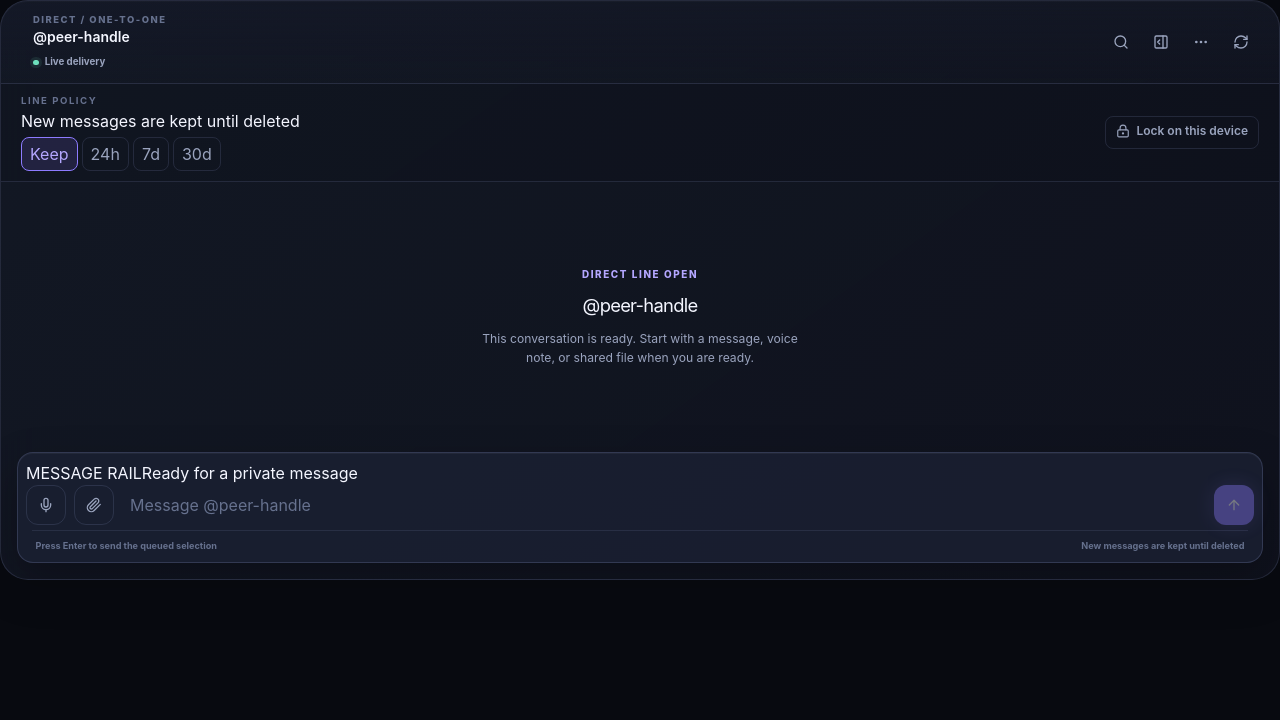
it: ConversationPanel composer controls › sends a plain-text draft when Enter is pressed and retains the visible Send control
Expected: the button named "Send message and attachments" is disabled, left=1214, top=485, right=1254, bottom=525
Type "Send with Enter" into the field named "Message peer-handle" at [664, 505], box left=122, top=485, right=1206, bottom=525
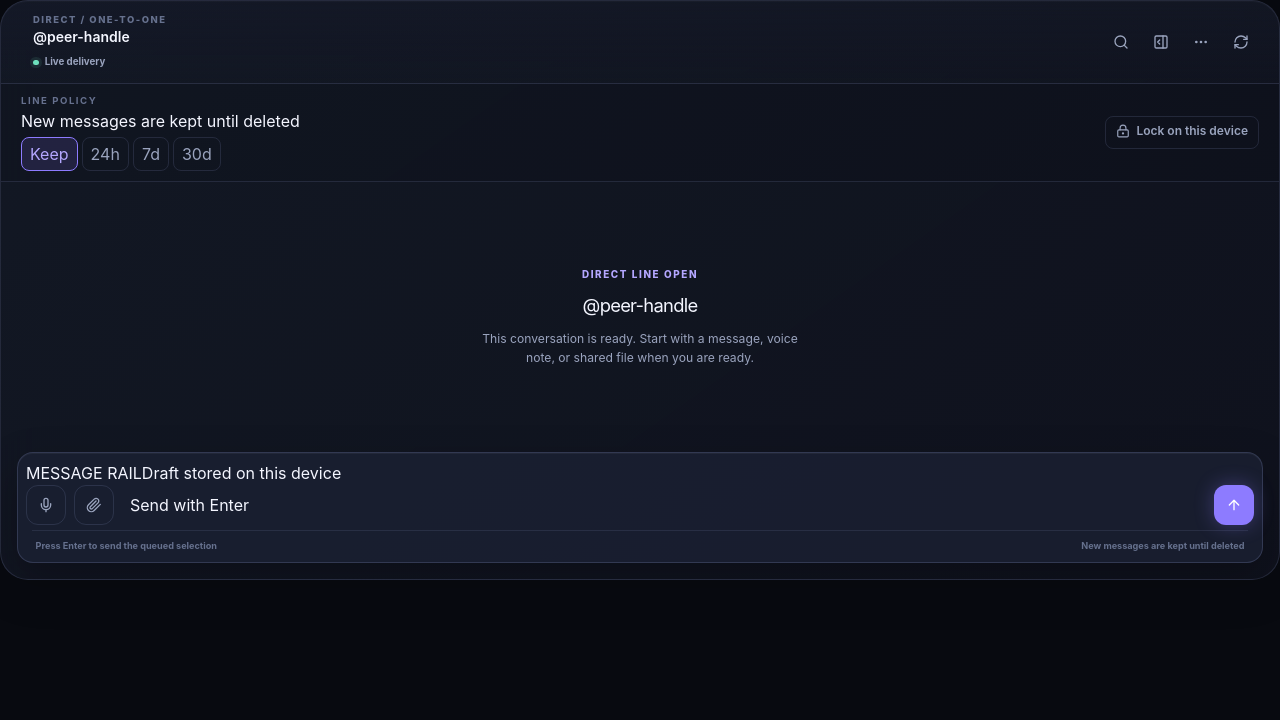
Submit the form named "Message peer-handle", box left=17, top=452, right=1263, bottom=563
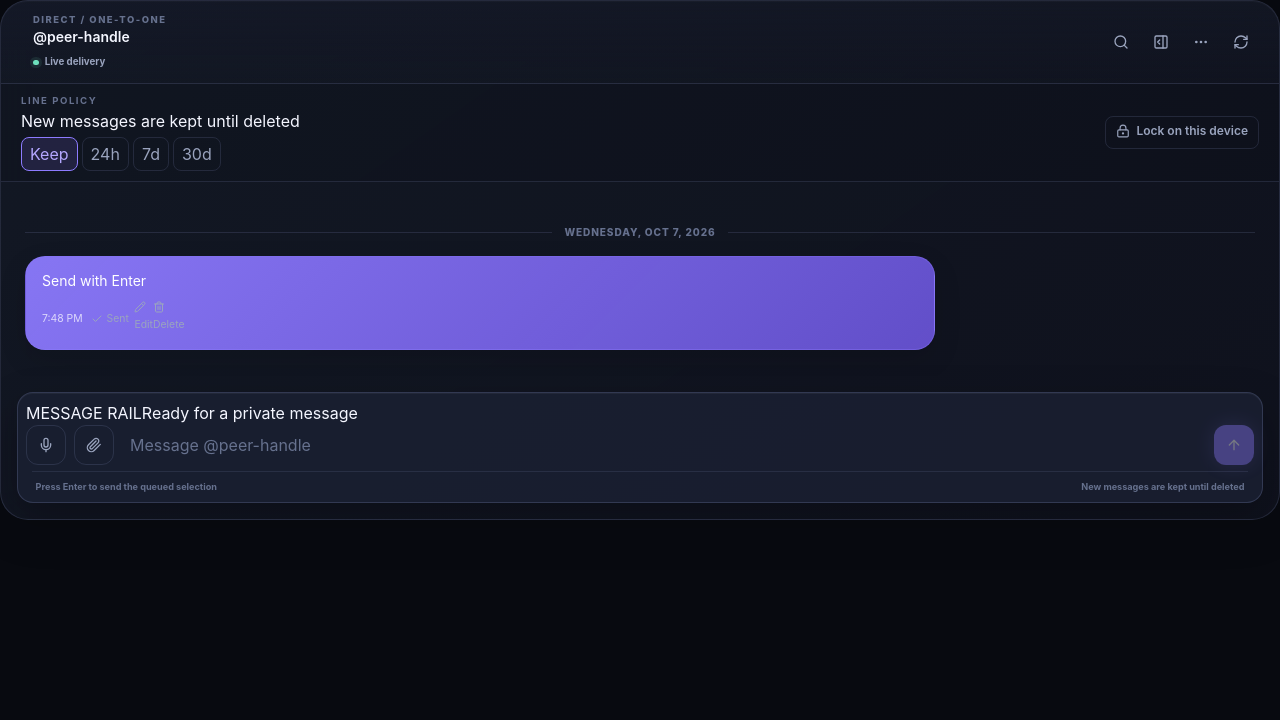
Result: the button named "Send message and attachments" is disabled at left=1214, top=425, right=1254, bottom=465
